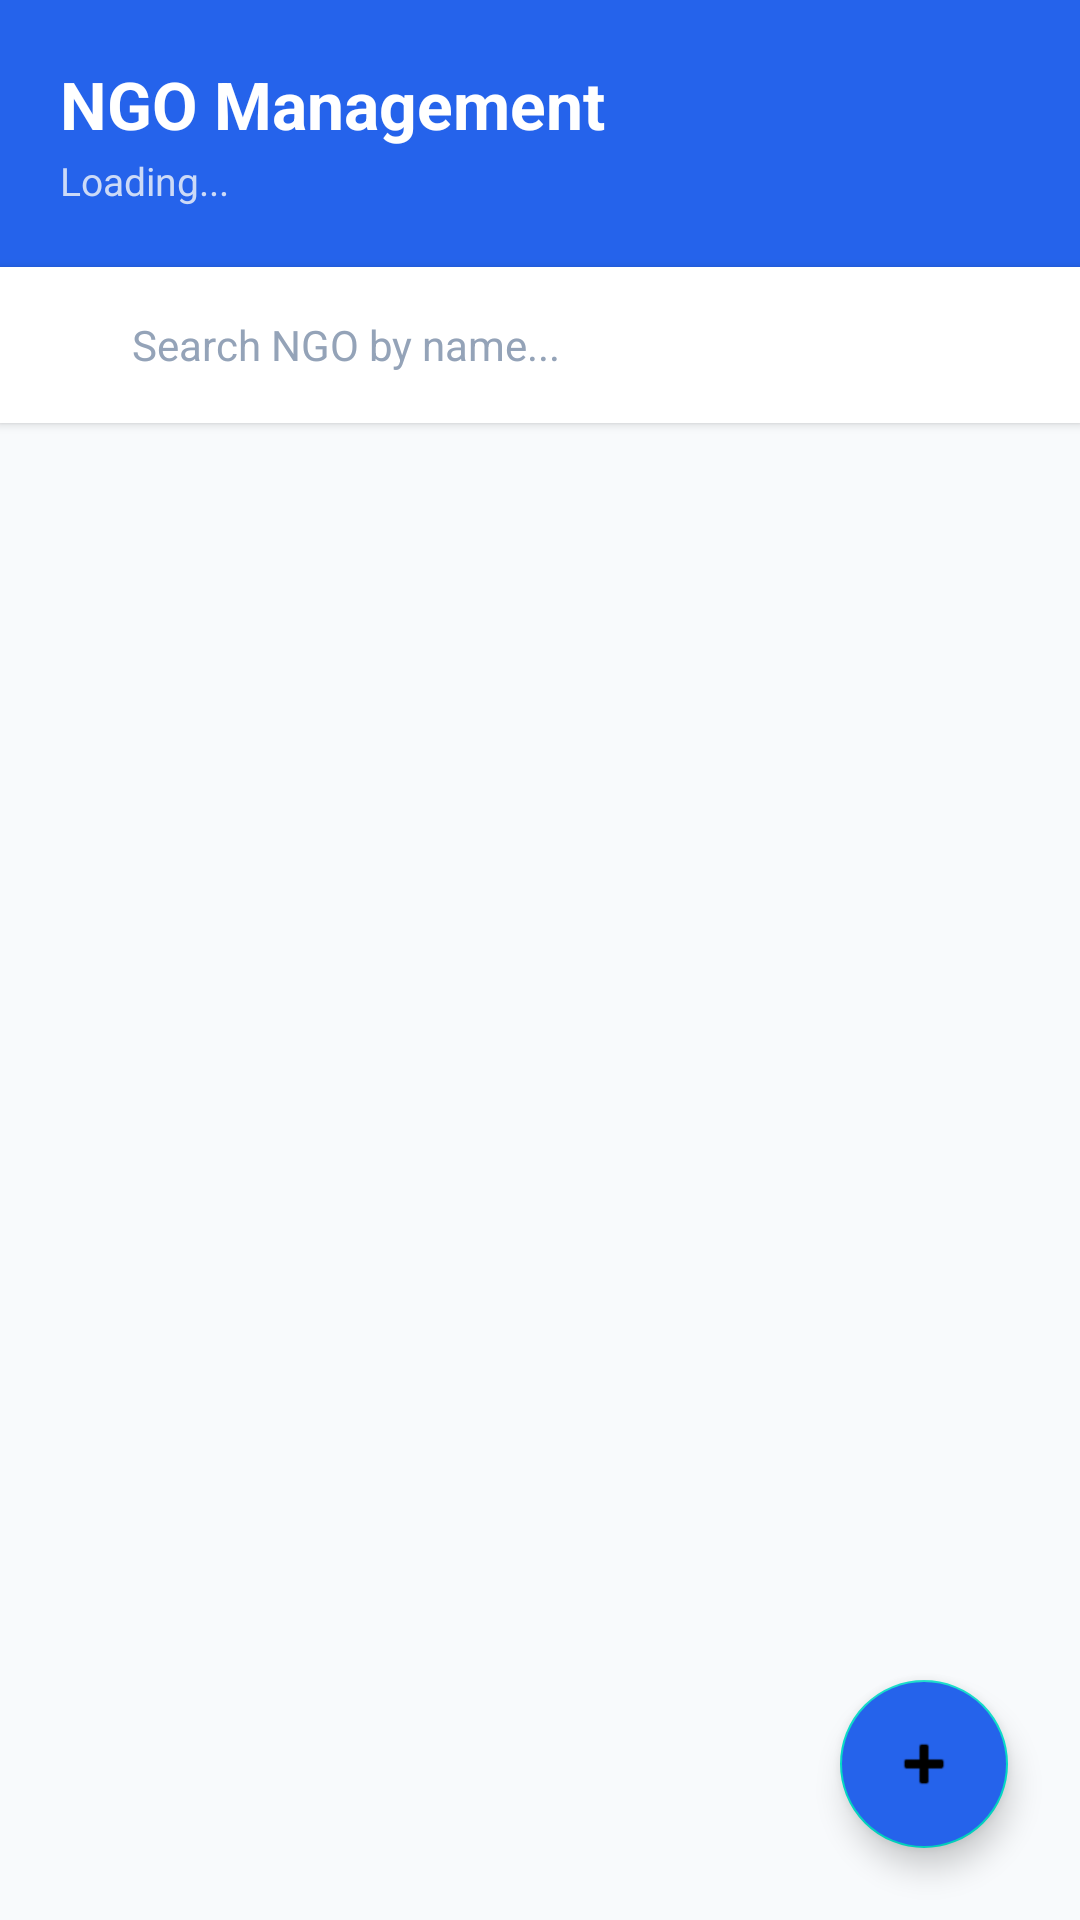

Where icons sit on this 1080 × 1920 app screen, as box=[x1, y1, x2, y2]:
Add NGO: box=[840, 1680, 1008, 1848]
